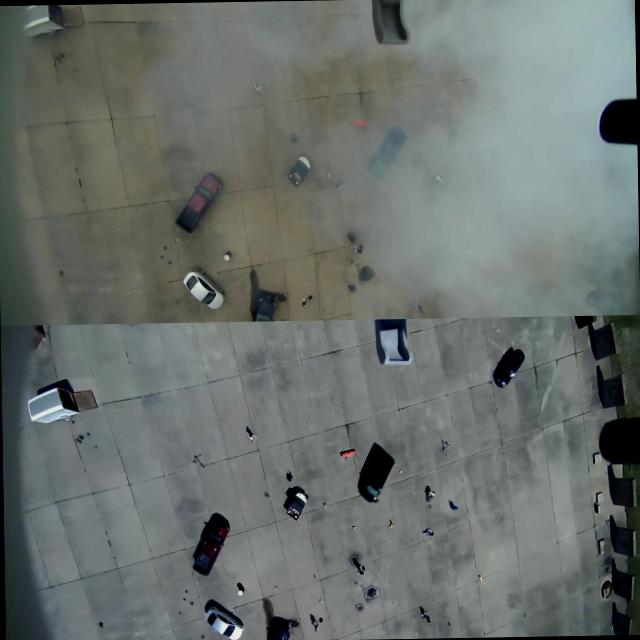car: (164, 165, 226, 235), (180, 511, 237, 578), (366, 117, 416, 187), (174, 260, 232, 312), (358, 434, 396, 504), (195, 592, 249, 640), (492, 341, 526, 391), (262, 608, 290, 640), (249, 295, 277, 322)
